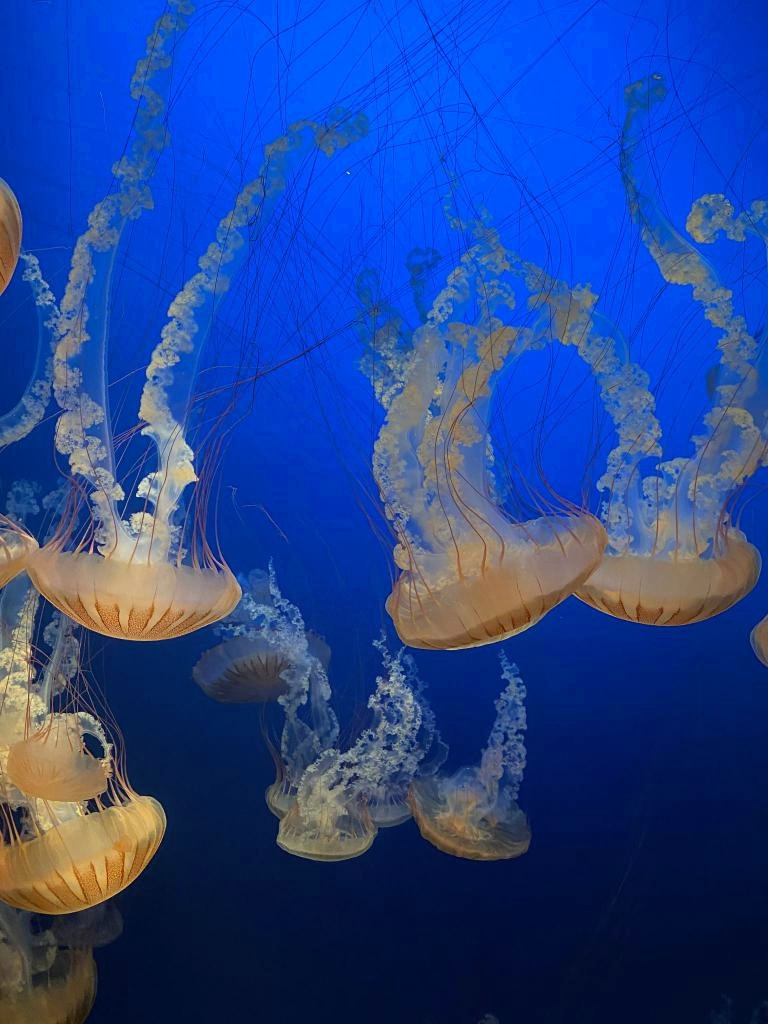jellyfish: (385, 504, 611, 650), (22, 538, 242, 644), (0, 785, 168, 915), (562, 519, 762, 627), (400, 769, 534, 861), (0, 708, 115, 815), (0, 942, 97, 1023), (266, 800, 380, 860), (200, 652, 306, 704), (333, 785, 421, 835), (0, 513, 41, 602), (260, 780, 326, 828), (0, 177, 24, 303)
